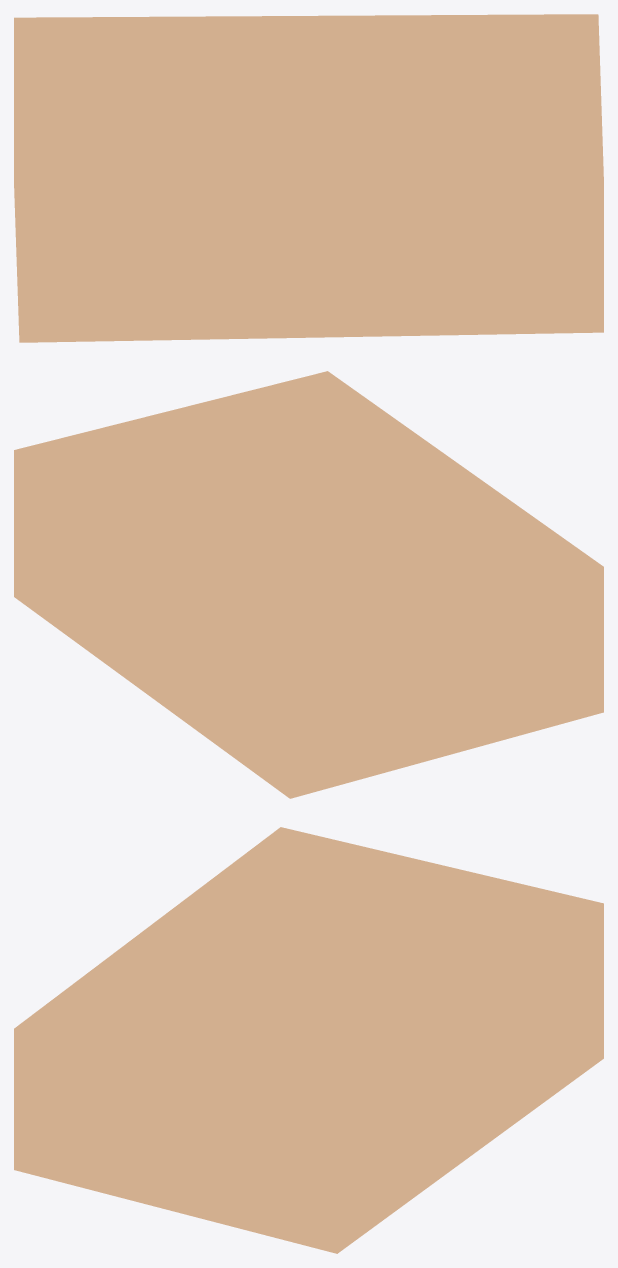
File: bad_normals.dae
The picture shows the model from 3 angles, top to bottom: view 1: azimuth 30°, elevation 25°; view 2: azimuth 150°, elevation 25°; view 3: azimuth 270°, elevation 25°; orthographic projection. The views are drawn at different scales.
Parts seen in each view (by area): view 1: ID_201700003257.dae (×2); view 2: ID_201700003257.dae (×2); view 3: ID_201700003257.dae (×2).
Part boxes in pixels (left/top/right/bottom): ID_201700003257.dae (×2): left=14, top=14, right=603, bottom=342; ID_201700003257.dae (×2): left=14, top=371, right=603, bottom=798; ID_201700003257.dae (×2): left=14, top=827, right=603, bottom=1253.
Size of the model in its own units: 51.78 by 46.43 by 13.47.
